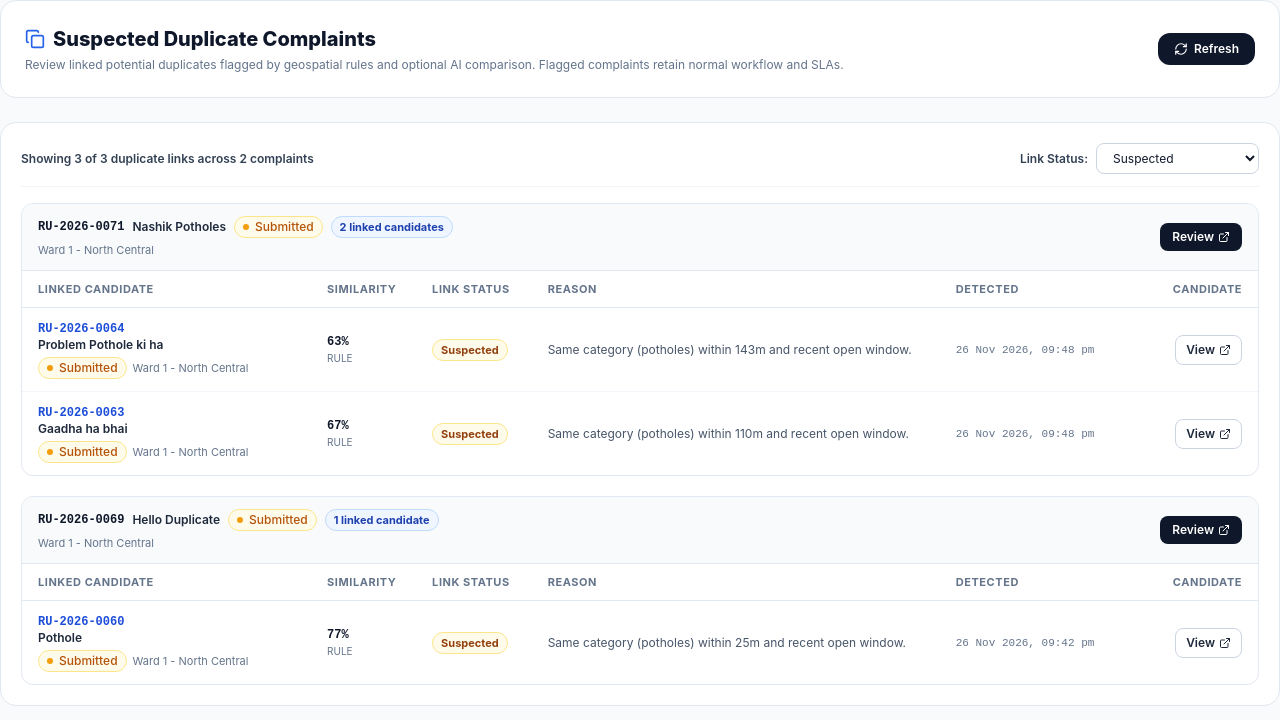
Test: Phase 9.4 Duplicate Detection Admin UI › groups multiple duplicate candidates under one complaint header without repeating the same complaint name
Expected: the text "RU-2026-0071" is shown once, [38,219,124,235]
Expected: the text "Nashik Potholes" is shown once, [132,219,226,235]
Select "Confirmed Duplicate" in the dropdown labelled "Link Status:" at [1178, 158], box [1096,143,1259,174]
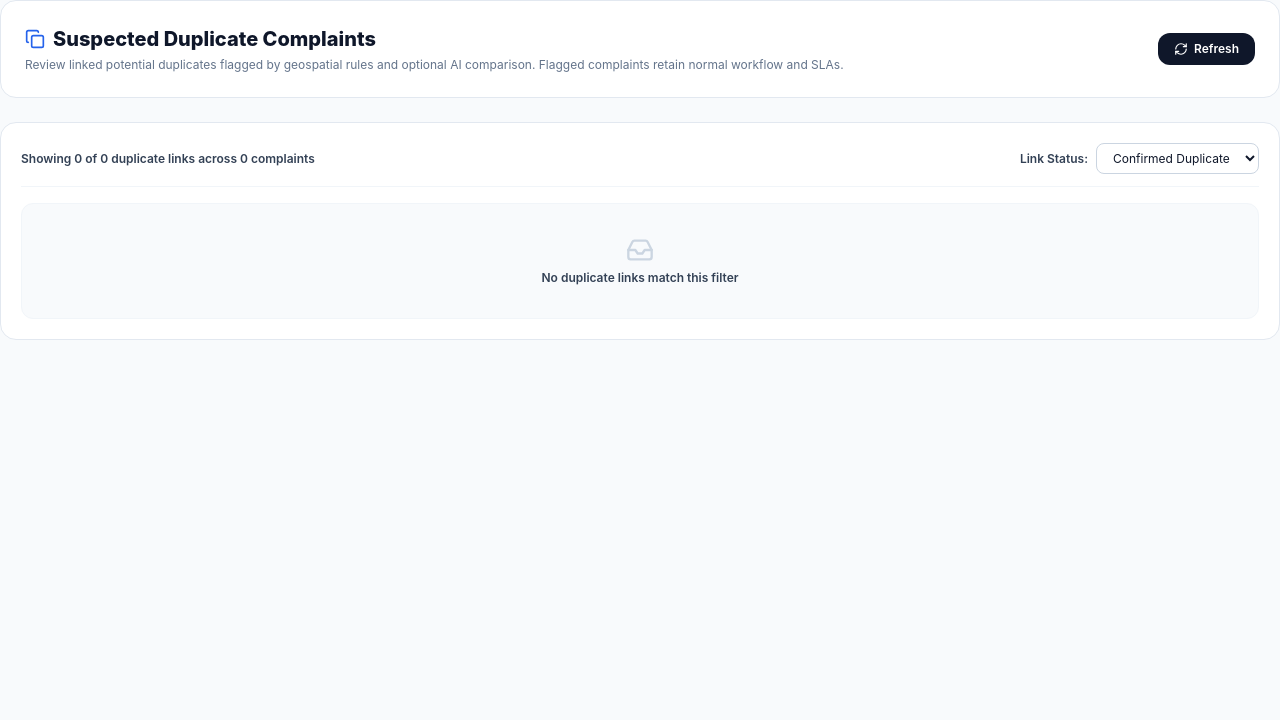
Expected: the text "Showing 0 of 0 duplicate links across 0 complaints" is shown, [21,150,315,166]
